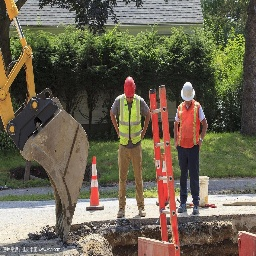helmet: (123, 75, 137, 101), (180, 82, 196, 103)
person: (109, 78, 153, 219), (172, 79, 208, 217)
vest: (116, 95, 142, 149), (179, 103, 199, 151)
